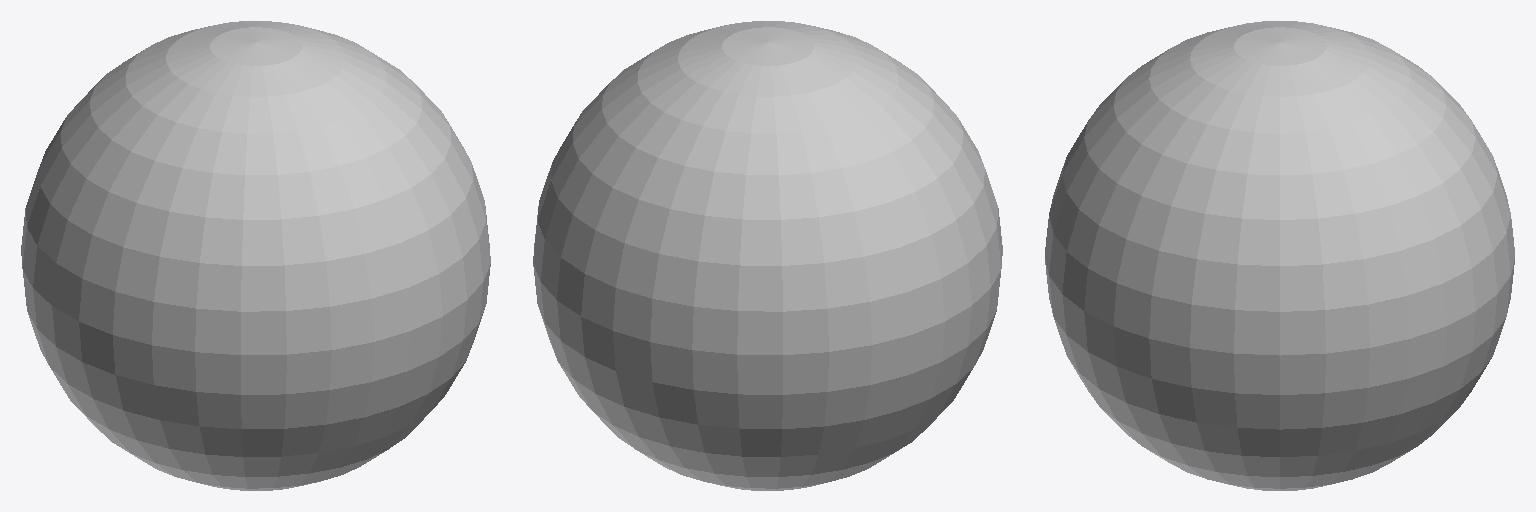
The model's file is player.obj.
3 views of the same model, side by side, from view 1: azimuth 30°, elevation 25°; view 2: azimuth 150°, elevation 25°; view 3: azimuth 270°, elevation 25° (orthographic).
Visible parts, largest first — view 1: 球; view 2: 球; view 3: 球.
Part boxes in pixels (bbox=[...]): 球: bbox=[21, 21, 490, 490]; 球: bbox=[533, 21, 1002, 490]; 球: bbox=[1045, 21, 1514, 490].
Bounding box in the file's own units: 2 × 2 × 2.